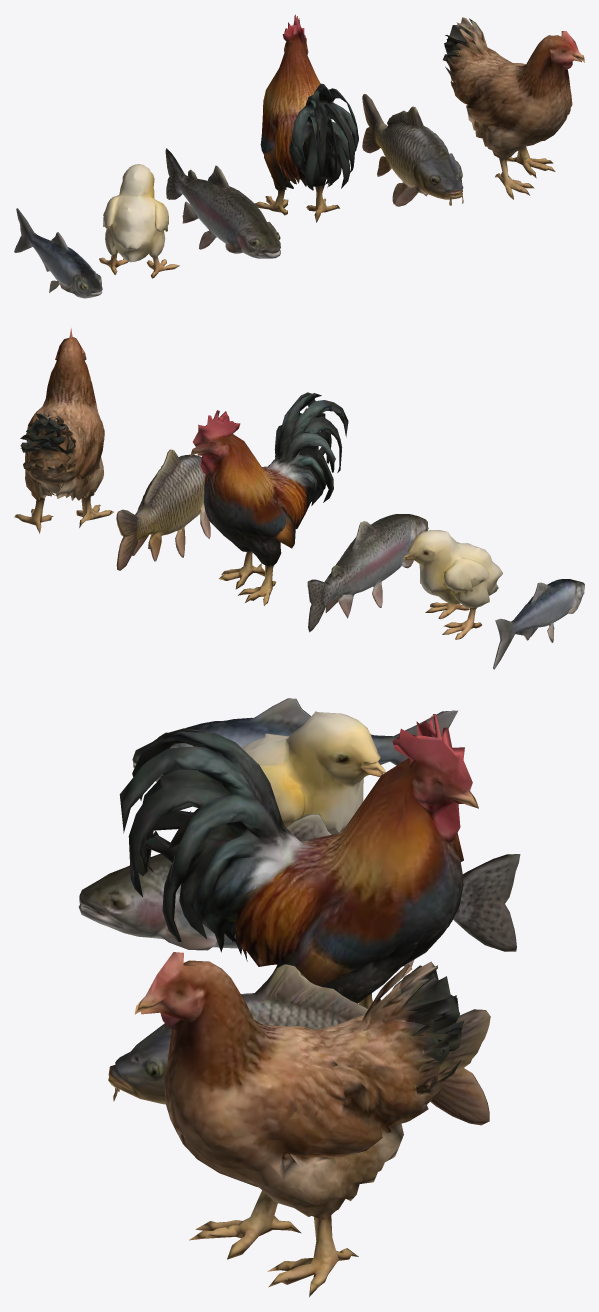
The model's file is poultry_fish_pack.glb.
The picture shows the model from 3 angles, top to bottom: view 1: azimuth 30°, elevation 25°; view 2: azimuth 150°, elevation 25°; view 3: azimuth 270°, elevation 25°; orthographic projection. The views are drawn at different scales.
Visible parts, largest first — view 1: hen, rooster, carp, trout, chick, fish_small; view 2: rooster, hen, trout, carp, chick, fish_small; view 3: rooster, hen, carp, trout, chick, fish_small.
Part boxes in pixels (x1,y1,x2,y2): hen: [443, 17, 584, 199]; rooster: [255, 14, 358, 222]; carp: [362, 94, 463, 206]; trout: [165, 148, 280, 258]; chick: [99, 164, 179, 278]; fish_small: [14, 208, 102, 298]; rooster: [190, 392, 348, 605]; hen: [14, 328, 113, 533]; trout: [307, 514, 428, 632]; carp: [116, 449, 210, 570]; chick: [403, 530, 502, 639]; fish_small: [493, 579, 584, 669]; rooster: [119, 714, 478, 1008]; hen: [134, 952, 463, 1297]; carp: [108, 964, 490, 1125]; trout: [78, 814, 520, 967]; chick: [242, 711, 385, 834]; fish_small: [132, 698, 458, 781].
Bounding box in the file's own units: 0.9402 × 0.3173 × 0.3496.
Materials: 1 (1 with a texture image).
